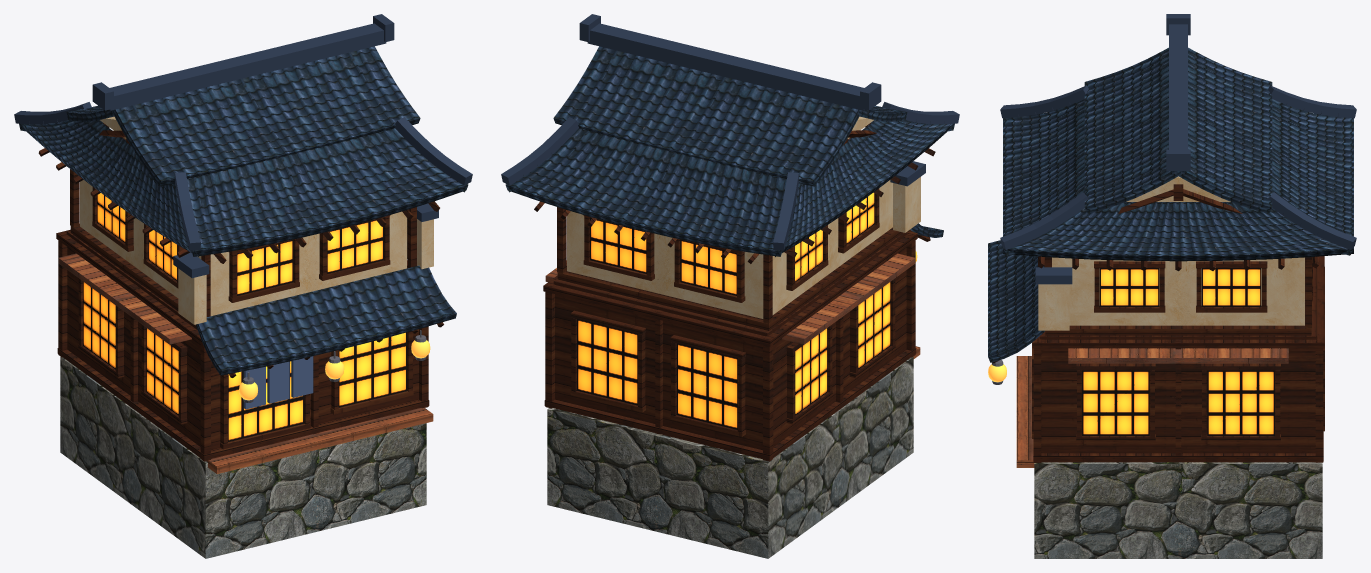
File: machiya_hero.glb
The picture shows the model from 3 angles, left to right: view 1: azimuth 30°, elevation 25°; view 2: azimuth 150°, elevation 25°; view 3: azimuth 270°, elevation 25°; orthographic projection.
Visible parts, largest first — view 1: machiya_kawara, machiya_castle_stone, machiya_charred, machiya_shoji_glow, machiya_plaster, machiya_cedar, machiya_noren_indigo, machiya_chochin_glow; view 2: machiya_kawara, machiya_charred, machiya_castle_stone, machiya_shoji_glow, machiya_plaster, machiya_cedar; view 3: machiya_kawara, machiya_charred, machiya_castle_stone, machiya_shoji_glow, machiya_plaster, machiya_cedar.
Boxes of the visible parts, x1=… form: machiya_kawara: x1=14, y1=14, x2=472, y2=375; machiya_castle_stone: x1=60, y1=357, x2=426, y2=558; machiya_charred: x1=38, y1=123, x2=443, y2=461; machiya_shoji_glow: x1=83, y1=193, x2=407, y2=441; machiya_plaster: x1=80, y1=116, x2=433, y2=324; machiya_cedar: x1=58, y1=253, x2=433, y2=473; machiya_noren_indigo: x1=243, y1=356, x2=313, y2=409; machiya_chochin_glow: x1=239, y1=340, x2=430, y2=400; machiya_kawara: x1=501, y1=14, x2=959, y2=256; machiya_charred: x1=534, y1=123, x2=935, y2=461; machiya_castle_stone: x1=547, y1=357, x2=913, y2=558; machiya_shoji_glow: x1=577, y1=192, x2=890, y2=429; machiya_plaster: x1=567, y1=116, x2=920, y2=318; machiya_cedar: x1=545, y1=253, x2=920, y2=358; machiya_kawara: x1=988, y1=14, x2=1356, y2=362; machiya_charred: x1=993, y1=184, x2=1350, y2=462; machiya_castle_stone: x1=1034, y1=462, x2=1322, y2=558; machiya_shoji_glow: x1=1082, y1=268, x2=1274, y2=435; machiya_plaster: x1=1038, y1=176, x2=1304, y2=330; machiya_cedar: x1=1016, y1=348, x2=1288, y2=467.
Bounding box in the file's own units: 4.87 × 6.84 × 5.42.
9 materials, 6 textured.
